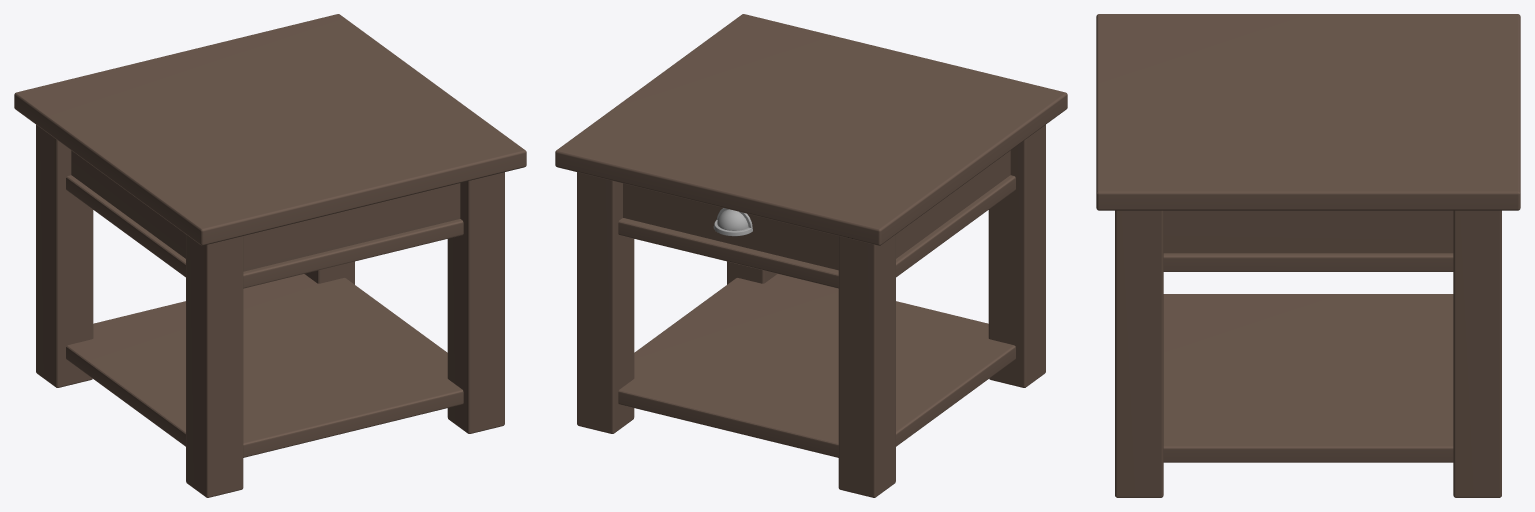
Rendered from end table.fbx.
3 renders of one model, left to right at view 1: azimuth 30°, elevation 25°; view 2: azimuth 150°, elevation 25°; view 3: azimuth 270°, elevation 25°, orthographic. The views are drawn at different scales.
Visible parts, largest first — view 1: pSphere2; view 2: pSphere2; view 3: pSphere2.
Boxes of the visible parts, x1,y1,x2,y2 form: pSphere2: (14, 14, 526, 497); pSphere2: (555, 14, 1067, 497); pSphere2: (1096, 14, 1520, 497).
Bounding box in the file's own units: 69.74 × 56.96 × 69.74.
